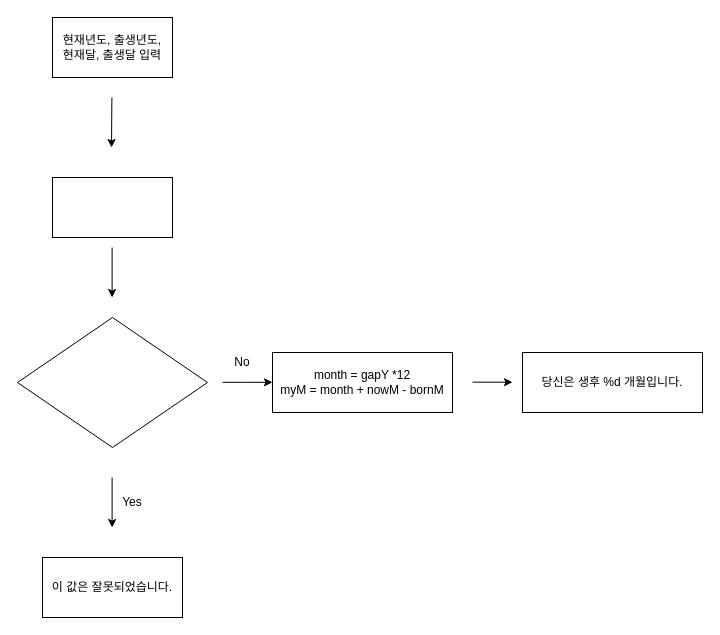
Image size: 720x635. Some labels were removed from this diagram. Here are the shapes that lost their labels. From the top down, the box of each, then its label:
(52, 176, 172, 238): gapY = nowY - bornY
(16, 316, 208, 448): gapY < 0
